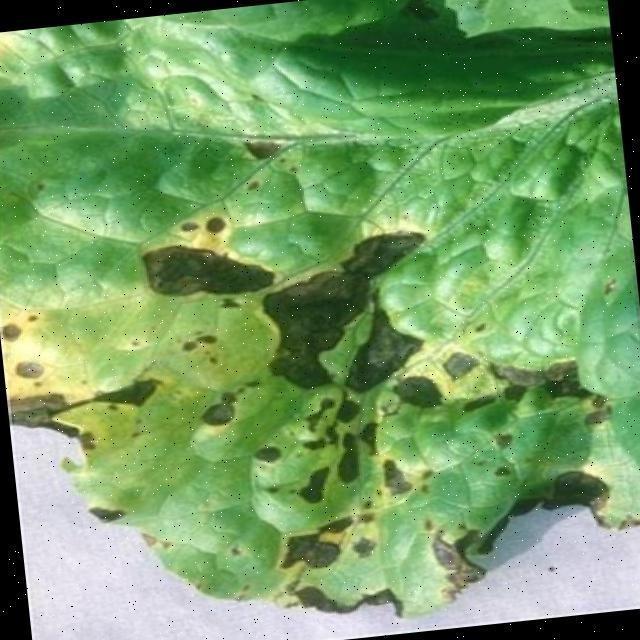Bacterial: (108, 173, 613, 472)
